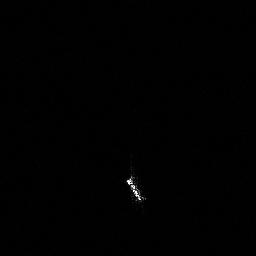ship: (123, 175, 147, 204)
